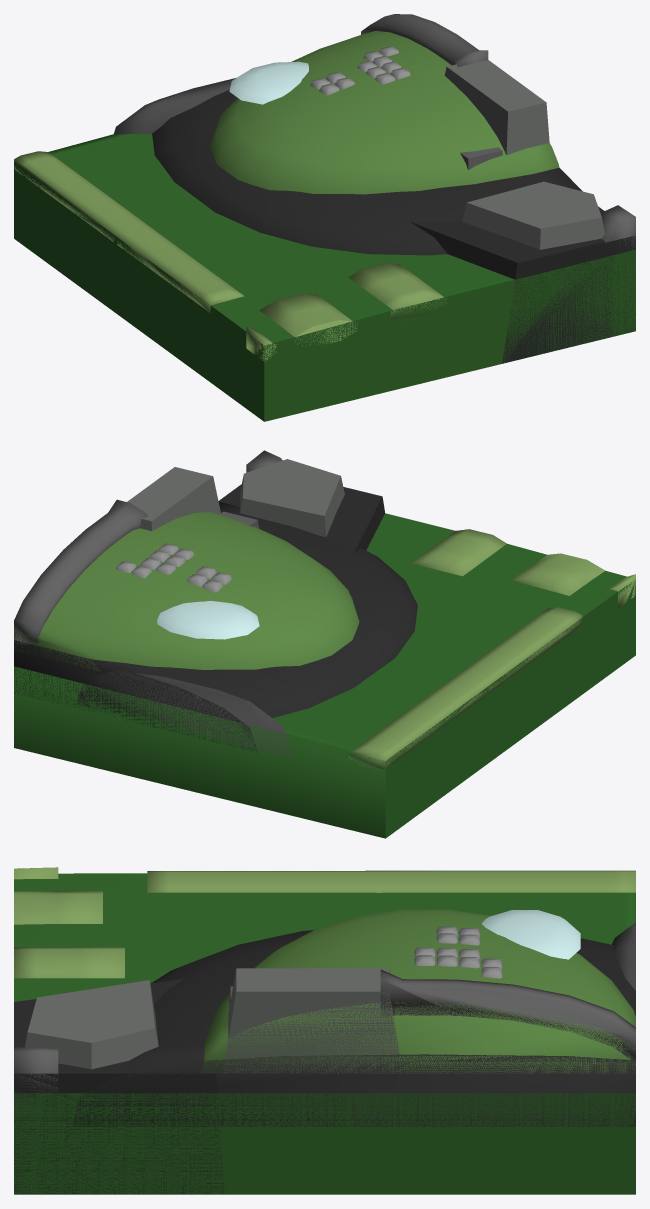
File: newshj-161-f2.glb
The picture shows the model from 3 angles, top to bottom: view 1: azimuth 30°, elevation 25°; view 2: azimuth 150°, elevation 25°; view 3: azimuth 270°, elevation 25°; orthographic projection. The views are drawn at different scales.
Parts seen in each view (by area): view 1: newshj-161-f2; view 2: newshj-161-f2; view 3: newshj-161-f2.
Part boxes in pixels (x1,y1,x2,y2): newshj-161-f2: (14, 14, 635, 421); newshj-161-f2: (14, 450, 635, 838); newshj-161-f2: (14, 867, 635, 1194).
Bounding box in the file's own units: 2 × 0.8899 × 2.33.
